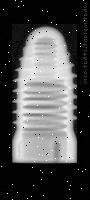Camlog: (12, 24, 77, 163)
